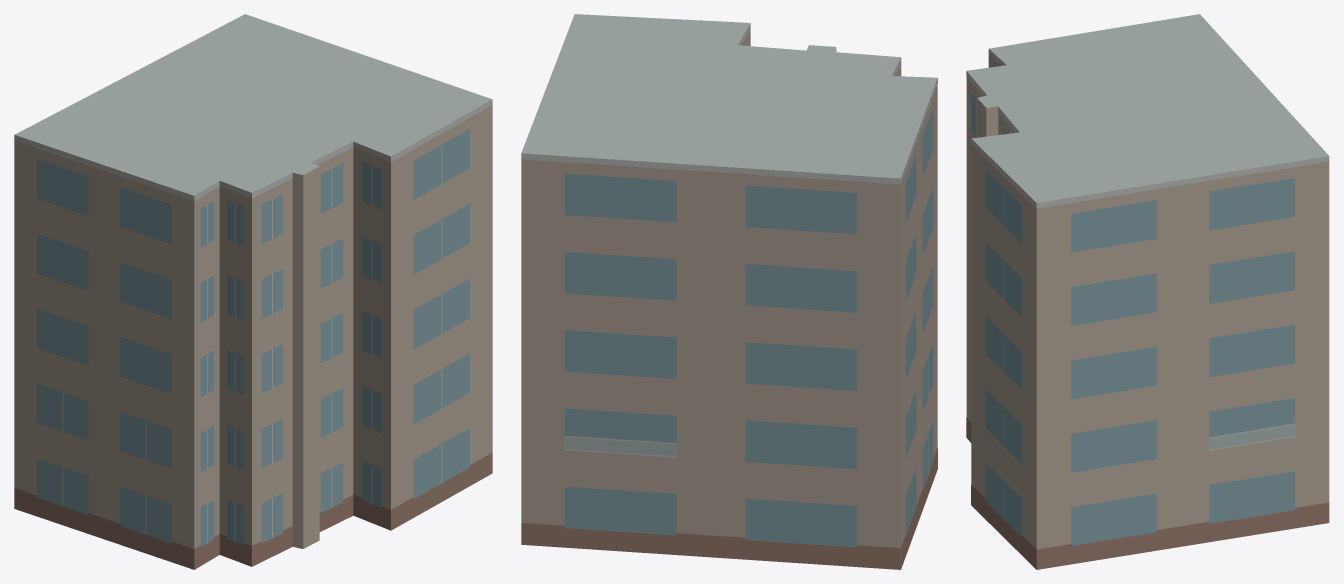
The model's file is survey-upis-32865646.glb.
The picture shows the model from 3 angles, left to right: view 1: azimuth 30°, elevation 25°; view 2: azimuth 150°, elevation 25°; view 3: azimuth 270°, elevation 25°; orthographic projection. The views are drawn at different scales.
Visible parts, largest first — view 1: survey-upis-32865646.tmp; view 2: survey-upis-32865646.tmp; view 3: survey-upis-32865646.tmp.
Part boxes in pixels (x1,y1,x2,y2): survey-upis-32865646.tmp: (14,14,492,569); survey-upis-32865646.tmp: (521,14,937,569); survey-upis-32865646.tmp: (966,14,1329,569).
Size of the model in its own units: 17.83 by 16.12 by 14.46.
